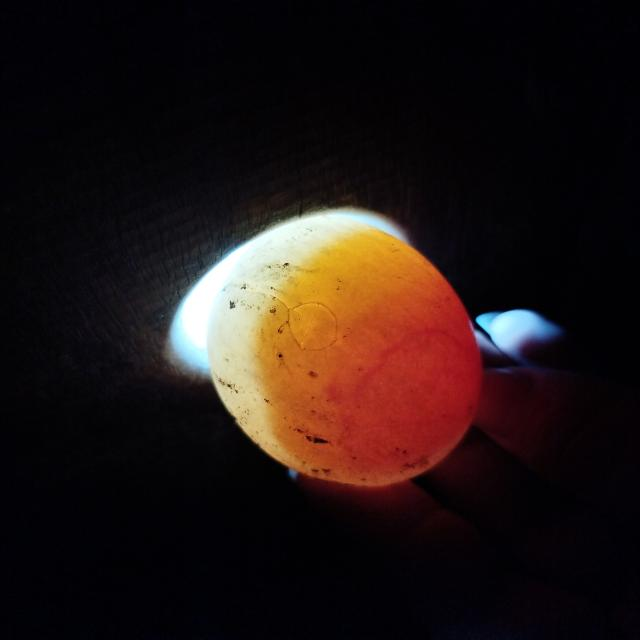Gema Quebrada: (332, 272, 483, 488)
Rachadura: (287, 302, 339, 353)
